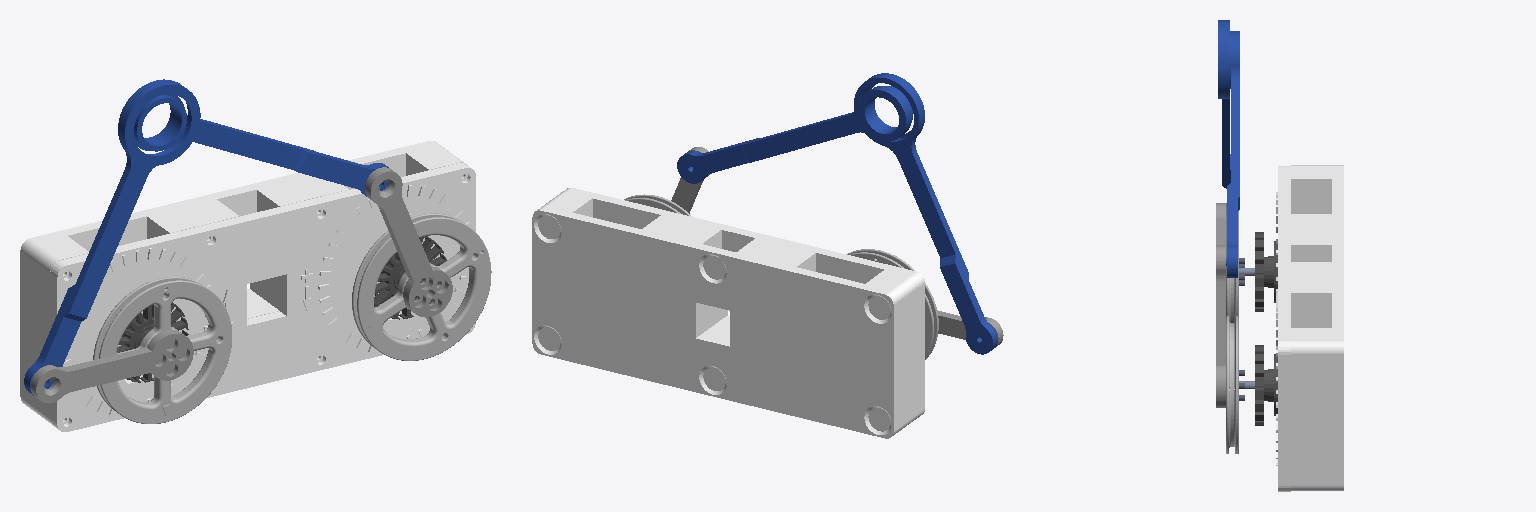
robot.urdf — fivebar_2dof:
<?xml version="1.0" ?>
<!-- Generated using onshape-to-robot -->
<!-- Onshape https://cad.onshape.com/documents/dd3abe9e9c2b991f8b4c543e/w/cd0ed4dbbed8ef5fec1acda2/e/cef9e1cc3745d261afba2600 -->
<robot name="fivebar_2dof">
  <!-- Link base_asm -->
  <link name="base_asm">
    <inertial>
      <origin xyz="-0 0.0131614 -2.75227e-05" rpy="0 0 0"/>
      <mass value="0.530155"/>
      <inertia ixx="0.000332831" ixy="0" ixz="-1.462e-09" iyy="0.0022674" iyz="-2.26825e-07" izz="0.00209532"/>
    </inertial>
    <!-- Part dual_motor_testbed_cover -->
    <visual>
      <origin xyz="0 0.032 -0.000174715" rpy="3.14159 -0 0"/>
      <geometry>
        <mesh filename="assets/dual_motor_testbed_cover.stl"/>
      </geometry>
      <material name="dual_motor_testbed_cover_material">
        <color rgba="1 1 1 1"/>
      </material>
    </visual>
    <collision>
      <origin xyz="0 0.032 -0.000174715" rpy="3.14159 -0 0"/>
      <geometry>
        <mesh filename="assets/dual_motor_testbed_cover.stl"/>
      </geometry>
    </collision>
    <!-- Part part_13 -->
    <visual>
      <origin xyz="0.065 0 -0.000174715" rpy="3.14159 -0 -0"/>
      <geometry>
        <mesh filename="assets/part_13.stl"/>
      </geometry>
      <material name="part_13_material">
        <color rgba="0.376471 0.376471 0.376471 1"/>
      </material>
    </visual>
    <collision>
      <origin xyz="0.065 0 -0.000174715" rpy="3.14159 -0 -0"/>
      <geometry>
        <mesh filename="assets/part_13.stl"/>
      </geometry>
    </collision>
    <!-- Part dual_motor_testbed_base -->
    <visual>
      <origin xyz="0 0.032 -6.31456e-06" rpy="3.14159 -0 -0"/>
      <geometry>
        <mesh filename="assets/dual_motor_testbed_base.stl"/>
      </geometry>
      <material name="dual_motor_testbed_base_material">
        <color rgba="1 1 1 1"/>
      </material>
    </visual>
    <collision>
      <origin xyz="0 0.032 -6.31456e-06" rpy="3.14159 -0 -0"/>
      <geometry>
        <mesh filename="assets/dual_motor_testbed_base.stl"/>
      </geometry>
    </collision>
    <!-- Part part_13_2 -->
    <visual>
      <origin xyz="-0.065 0 -0.000174715" rpy="3.14159 -0 -0"/>
      <geometry>
        <mesh filename="assets/part_13.stl"/>
      </geometry>
      <material name="part_13_2_material">
        <color rgba="0.376471 0.376471 0.376471 1"/>
      </material>
    </visual>
    <collision>
      <origin xyz="-0.065 0 -0.000174715" rpy="3.14159 -0 -0"/>
      <geometry>
        <mesh filename="assets/part_13.stl"/>
      </geometry>
    </collision>
  </link>
  <!-- Link rotor_asm -->
  <link name="rotor_asm">
    <inertial>
      <origin xyz="1.831e-09 7.07212e-05 -0.00543669" rpy="0 0 0"/>
      <mass value="0.0296045"/>
      <inertia ixx="7.98111e-06" ixy="0" ixz="-0" iyy="7.93749e-06" iyz="1.3052e-08" izz="1.11834e-05"/>
    </inertial>
    <!-- Part l1l -->
    <visual>
      <origin xyz="0 -0.04 -0.019" rpy="0 -0 1.5708"/>
      <geometry>
        <mesh filename="assets/l1l.stl"/>
      </geometry>
      <material name="l1l_material">
        <color rgba="0.647059 0.647059 0.647059 1"/>
      </material>
    </visual>
    <collision>
      <origin xyz="0 -0.04 -0.019" rpy="0 -0 1.5708"/>
      <geometry>
        <mesh filename="assets/l1l.stl"/>
      </geometry>
    </collision>
    <!-- Part fastener_shcs_m3_6 -->
    <visual>
      <origin xyz="0 0.006 -0.011" rpy="3.14159 0 -0"/>
      <geometry>
        <mesh filename="assets/fastener_shcs_m3_6.stl"/>
      </geometry>
      <material name="fastener_shcs_m3_6_material">
        <color rgba="0.407843 0.427451 0.486275 1"/>
      </material>
    </visual>
    <collision>
      <origin xyz="0 0.006 -0.011" rpy="3.14159 0 -0"/>
      <geometry>
        <mesh filename="assets/fastener_shcs_m3_6.stl"/>
      </geometry>
    </collision>
    <!-- Part motor_antigravity_4004_custom_shaft -->
    <visual>
      <origin xyz="0 0 0.025" rpy="-3.14159 0 -0"/>
      <geometry>
        <mesh filename="assets/motor_antigravity_4004_custom_shaft.stl"/>
      </geometry>
      <material name="motor_antigravity_4004_custom_shaft_material">
        <color rgba="0.568627 0.588235 0.666667 1"/>
      </material>
    </visual>
    <collision>
      <origin xyz="0 0 0.025" rpy="-3.14159 0 -0"/>
      <geometry>
        <mesh filename="assets/motor_antigravity_4004_custom_shaft.stl"/>
      </geometry>
    </collision>
    <!-- Part hand_wheel -->
    <visual>
      <origin xyz="0 0 -0.008" rpy="-1.5708 0 -0"/>
      <geometry>
        <mesh filename="assets/hand_wheel.stl"/>
      </geometry>
      <material name="hand_wheel_material">
        <color rgba="0.768627 0.768627 0.768627 1"/>
      </material>
    </visual>
    <collision>
      <origin xyz="0 0 -0.008" rpy="-1.5708 0 -0"/>
      <geometry>
        <mesh filename="assets/hand_wheel.stl"/>
      </geometry>
    </collision>
    <!-- Part fastener_shcs_m3_6_2 -->
    <visual>
      <origin xyz="0.006 0 -0.011" rpy="-3.14159 0 -0"/>
      <geometry>
        <mesh filename="assets/fastener_shcs_m3_6.stl"/>
      </geometry>
      <material name="fastener_shcs_m3_6_2_material">
        <color rgba="0.407843 0.427451 0.486275 1"/>
      </material>
    </visual>
    <collision>
      <origin xyz="0.006 0 -0.011" rpy="-3.14159 0 -0"/>
      <geometry>
        <mesh filename="assets/fastener_shcs_m3_6.stl"/>
      </geometry>
    </collision>
    <!-- Part fastener_shcs_m3_6_3 -->
    <visual>
      <origin xyz="-0.006 0 -0.011" rpy="-3.14159 0 -0"/>
      <geometry>
        <mesh filename="assets/fastener_shcs_m3_6.stl"/>
      </geometry>
      <material name="fastener_shcs_m3_6_3_material">
        <color rgba="0.407843 0.427451 0.486275 1"/>
      </material>
    </visual>
    <collision>
      <origin xyz="-0.006 0 -0.011" rpy="-3.14159 0 -0"/>
      <geometry>
        <mesh filename="assets/fastener_shcs_m3_6.stl"/>
      </geometry>
    </collision>
    <!-- Part fastener_shcs_m3_6_4 -->
    <visual>
      <origin xyz="0 -0.006 -0.011" rpy="-3.14159 0 -0"/>
      <geometry>
        <mesh filename="assets/fastener_shcs_m3_6.stl"/>
      </geometry>
      <material name="fastener_shcs_m3_6_4_material">
        <color rgba="0.407843 0.427451 0.486275 1"/>
      </material>
    </visual>
    <collision>
      <origin xyz="0 -0.006 -0.011" rpy="-3.14159 0 -0"/>
      <geometry>
        <mesh filename="assets/fastener_shcs_m3_6.stl"/>
      </geometry>
    </collision>
    <!-- Part motor_antigravity_4004_rotor -->
    <visual>
      <origin xyz="0 0 -0.008" rpy="-1.5708 -0 0.785398"/>
      <geometry>
        <mesh filename="assets/motor_antigravity_4004_rotor.stl"/>
      </geometry>
      <material name="motor_antigravity_4004_rotor_material">
        <color rgba="0.501961 0.501961 0.501961 1"/>
      </material>
    </visual>
    <collision>
      <origin xyz="0 0 -0.008" rpy="-1.5708 -0 0.785398"/>
      <geometry>
        <mesh filename="assets/motor_antigravity_4004_rotor.stl"/>
      </geometry>
    </collision>
  </link>
  <!-- Link l2r -->
  <link name="l2r">
    <inertial>
      <origin xyz="0 0 0" rpy="0 0 0"/>
      <mass value="1e-09"/>
      <inertia ixx="1e-09" ixy="0" ixz="0" iyy="1e-09" iyz="0" izz="1e-09"/>
    </inertial>
    <!-- Part l2r -->
    <visual>
      <origin xyz="0 0.06 0.005" rpy="-3.14159 0 -0"/>
      <geometry>
        <mesh filename="assets/l2r.stl"/>
      </geometry>
      <material name="l2r_material">
        <color rgba="0.231373 0.380392 0.705882 1"/>
      </material>
    </visual>
    <collision>
      <origin xyz="0 0.06 0.005" rpy="-3.14159 0 -0"/>
      <geometry>
        <mesh filename="assets/l2r.stl"/>
      </geometry>
    </collision>
  </link>
  <!-- Frame closing_ee_1 (dummy link + fixed joint) -->
  <link name="closing_ee_1">
    <origin xyz="0 0 0" rpy="0 -0 0"/>
    <inertial>
      <origin xyz="0 0 0" rpy="0 0 0"/>
      <mass value="1e-9"/>
      <inertia ixx="0" ixy="0" ixz="0" iyy="0" iyz="0" izz="0"/>
    </inertial>
  </link>
  <joint name="closing_ee_1_frame" type="fixed">
    <origin xyz="0 -0.125 -0.002" rpy="-3.14159 0 -0"/>
    <parent link="l2r"/>
    <child link="closing_ee_1"/>
    <axis xyz="0 0 0"/>
  </joint>
  <!-- Joint from rotor_asm to l2r -->
  <joint name="elbowL" type="revolute">
    <origin xyz="-0.06 0 -0.014" rpy="3.14159 0 -2.6769"/>
    <parent link="rotor_asm"/>
    <child link="l2r"/>
    <axis xyz="0 0 1"/>
    <limit effort="1" velocity="1" lower="-3.141592653589793" upper="3.141592653589793"/>
  </joint>
  <!-- Joint from base_asm to rotor_asm -->
  <joint name="motorL" type="revolute">
    <origin xyz="-0.065 -0.0112 -0.000174715" rpy="-1.5708 -0 -0"/>
    <parent link="base_asm"/>
    <child link="rotor_asm"/>
    <axis xyz="0 0 1"/>
    <limit effort="1" velocity="1" lower="-3.141592653589793" upper="3.141592653589793"/>
  </joint>
  <!-- Link rotor_asm_2 -->
  <link name="rotor_asm_2">
    <inertial>
      <origin xyz="5.00087e-05 5.00061e-05 -0.00543669" rpy="0 0 0"/>
      <mass value="0.0296045"/>
      <inertia ixx="7.9593e-06" ixy="-2.1811e-08" ixz="9.229e-09" iyy="7.9593e-06" iyz="9.229e-09" izz="1.11834e-05"/>
    </inertial>
    <!-- Part l1r -->
    <visual>
      <origin xyz="-0 -0 -0.019" rpy="-0 0 0.785398"/>
      <geometry>
        <mesh filename="assets/l1r.stl"/>
      </geometry>
      <material name="l1r_material">
        <color rgba="0.647059 0.647059 0.647059 1"/>
      </material>
    </visual>
    <collision>
      <origin xyz="-0 -0 -0.019" rpy="-0 0 0.785398"/>
      <geometry>
        <mesh filename="assets/l1r.stl"/>
      </geometry>
    </collision>
    <!-- Part fastener_shcs_m3_6_5 -->
    <visual>
      <origin xyz="0.00424264 0.00424264 -0.011" rpy="3.14159 0 -0.785398"/>
      <geometry>
        <mesh filename="assets/fastener_shcs_m3_6.stl"/>
      </geometry>
      <material name="fastener_shcs_m3_6_5_material">
        <color rgba="0.407843 0.427451 0.486275 1"/>
      </material>
    </visual>
    <collision>
      <origin xyz="0.00424264 0.00424264 -0.011" rpy="3.14159 0 -0.785398"/>
      <geometry>
        <mesh filename="assets/fastener_shcs_m3_6.stl"/>
      </geometry>
    </collision>
    <!-- Part motor_antigravity_4004_custom_shaft_2 -->
    <visual>
      <origin xyz="-0 -0 0.025" rpy="-3.14159 0 -0.785398"/>
      <geometry>
        <mesh filename="assets/motor_antigravity_4004_custom_shaft.stl"/>
      </geometry>
      <material name="motor_antigravity_4004_custom_shaft_2_material">
        <color rgba="0.568627 0.588235 0.666667 1"/>
      </material>
    </visual>
    <collision>
      <origin xyz="-0 -0 0.025" rpy="-3.14159 0 -0.785398"/>
      <geometry>
        <mesh filename="assets/motor_antigravity_4004_custom_shaft.stl"/>
      </geometry>
    </collision>
    <!-- Part hand_wheel_2 -->
    <visual>
      <origin xyz="-0 -0 -0.008" rpy="-1.5708 -0 -0.785398"/>
      <geometry>
        <mesh filename="assets/hand_wheel.stl"/>
      </geometry>
      <material name="hand_wheel_2_material">
        <color rgba="0.768627 0.768627 0.768627 1"/>
      </material>
    </visual>
    <collision>
      <origin xyz="-0 -0 -0.008" rpy="-1.5708 -0 -0.785398"/>
      <geometry>
        <mesh filename="assets/hand_wheel.stl"/>
      </geometry>
    </collision>
    <!-- Part fastener_shcs_m3_6_6 -->
    <visual>
      <origin xyz="0.00424264 -0.00424264 -0.011" rpy="-3.14159 0 -0.785398"/>
      <geometry>
        <mesh filename="assets/fastener_shcs_m3_6.stl"/>
      </geometry>
      <material name="fastener_shcs_m3_6_6_material">
        <color rgba="0.407843 0.427451 0.486275 1"/>
      </material>
    </visual>
    <collision>
      <origin xyz="0.00424264 -0.00424264 -0.011" rpy="-3.14159 0 -0.785398"/>
      <geometry>
        <mesh filename="assets/fastener_shcs_m3_6.stl"/>
      </geometry>
    </collision>
    <!-- Part fastener_shcs_m3_6_7 -->
    <visual>
      <origin xyz="-0.00424264 0.00424264 -0.011" rpy="-3.14159 0 -0.785398"/>
      <geometry>
        <mesh filename="assets/fastener_shcs_m3_6.stl"/>
      </geometry>
      <material name="fastener_shcs_m3_6_7_material">
        <color rgba="0.407843 0.427451 0.486275 1"/>
      </material>
    </visual>
    <collision>
      <origin xyz="-0.00424264 0.00424264 -0.011" rpy="-3.14159 0 -0.785398"/>
      <geometry>
        <mesh filename="assets/fastener_shcs_m3_6.stl"/>
      </geometry>
    </collision>
    <!-- Part fastener_shcs_m3_6_8 -->
    <visual>
      <origin xyz="-0.00424264 -0.00424264 -0.011" rpy="-3.14159 0 -0.785398"/>
      <geometry>
        <mesh filename="assets/fastener_shcs_m3_6.stl"/>
      </geometry>
      <material name="fastener_shcs_m3_6_8_material">
        <color rgba="0.407843 0.427451 0.486275 1"/>
      </material>
    </visual>
    <collision>
      <origin xyz="-0.00424264 -0.00424264 -0.011" rpy="-3.14159 0 -0.785398"/>
      <geometry>
        <mesh filename="assets/fastener_shcs_m3_6.stl"/>
      </geometry>
    </collision>
    <!-- Part motor_antigravity_4004_rotor_2 -->
    <visual>
      <origin xyz="-0 -0 -0.008" rpy="-1.5708 0 -0"/>
      <geometry>
        <mesh filename="assets/motor_antigravity_4004_rotor.stl"/>
      </geometry>
      <material name="motor_antigravity_4004_rotor_2_material">
        <color rgba="0.501961 0.501961 0.501961 1"/>
      </material>
    </visual>
    <collision>
      <origin xyz="-0 -0 -0.008" rpy="-1.5708 0 -0"/>
      <geometry>
        <mesh filename="assets/motor_antigravity_4004_rotor.stl"/>
      </geometry>
    </collision>
  </link>
  <!-- Link l2l -->
  <link name="l2l">
    <inertial>
      <origin xyz="0 0 0" rpy="0 0 0"/>
      <mass value="1e-09"/>
      <inertia ixx="1e-09" ixy="0" ixz="0" iyy="1e-09" iyz="0" izz="1e-09"/>
    </inertial>
    <!-- Part l2l -->
    <visual>
      <origin xyz="-0.04 0.06 0.005" rpy="-3.14159 -0 -0"/>
      <geometry>
        <mesh filename="assets/l2l.stl"/>
      </geometry>
      <material name="l2l_material">
        <color rgba="0.231373 0.380392 0.705882 1"/>
      </material>
    </visual>
    <collision>
      <origin xyz="-0.04 0.06 0.005" rpy="-3.14159 -0 -0"/>
      <geometry>
        <mesh filename="assets/l2l.stl"/>
      </geometry>
    </collision>
  </link>
  <!-- Frame closing_ee_2 (dummy link + fixed joint) -->
  <link name="closing_ee_2">
    <origin xyz="0 0 0" rpy="0 -0 0"/>
    <inertial>
      <origin xyz="0 0 0" rpy="0 0 0"/>
      <mass value="1e-9"/>
      <inertia ixx="0" ixy="0" ixz="0" iyy="0" iyz="0" izz="0"/>
    </inertial>
  </link>
  <joint name="closing_ee_2_frame" type="fixed">
    <origin xyz="0 -0.125 -0.0015" rpy="-3.14159 0 -1.5708"/>
    <parent link="l2l"/>
    <child link="closing_ee_2"/>
    <axis xyz="0 0 0"/>
  </joint>
  <!-- Joint from rotor_asm_2 to l2l -->
  <joint name="elbowR" type="revolute">
    <origin xyz="-0.0424264 0.0424264 -0.014" rpy="-3.14159 0 0.0589597"/>
    <parent link="rotor_asm_2"/>
    <child link="l2l"/>
    <axis xyz="0 0 1"/>
    <limit effort="1" velocity="1" lower="-3.141592653589793" upper="3.141592653589793"/>
  </joint>
  <!-- Joint from base_asm to rotor_asm_2 -->
  <joint name="motorR" type="revolute">
    <origin xyz="0.065 -0.0112 -0.000174715" rpy="1.5708 1.16507 -3.14159"/>
    <parent link="base_asm"/>
    <child link="rotor_asm_2"/>
    <axis xyz="0 0 1"/>
    <limit effort="1" velocity="1" lower="-3.141592653589793" upper="3.141592653589793"/>
  </joint>
</robot>

--- Render facts (derived) ---
Views: 3 orthographic renders of the robot side by side, from view 1: azimuth 30°, elevation 25°; view 2: azimuth 150°, elevation 25°; view 3: azimuth 270°, elevation 25°.
Model fivebar_2dof with 7 links and 6 joints (4 revolute, 2 fixed), rooted at base_asm, posed all joints at 0.
Visible links, largest first — view 1: base_asm, rotor_asm, rotor_asm_2, l2r, l2l; view 2: base_asm, l2r, l2l, rotor_asm, rotor_asm_2; view 3: base_asm, rotor_asm_2, l2l, l2r, rotor_asm.
Link boxes in pixels (x1,y1,x2,y2): base_asm: (20, 141, 475, 431); rotor_asm: (31, 277, 231, 423); rotor_asm_2: (352, 167, 491, 360); l2r: (24, 79, 200, 395); l2l: (134, 94, 388, 196); base_asm: (532, 188, 924, 438); l2r: (854, 73, 997, 354); l2l: (677, 86, 912, 183); rotor_asm: (847, 249, 1003, 359); rotor_asm_2: (624, 147, 711, 216); base_asm: (1255, 165, 1343, 491); rotor_asm_2: (1216, 245, 1254, 453); l2l: (1226, 31, 1239, 277); l2r: (1218, 20, 1230, 188); rotor_asm: (1216, 203, 1254, 322).
Bounding box of the posed robot: 0.238 × 0.0622 × 0.1707 m (x, y, z).
20 mesh visuals loaded from 11 distinct referenced files (10 binary STL); not drawn: 2 (reference not matched to a file when rendering).
